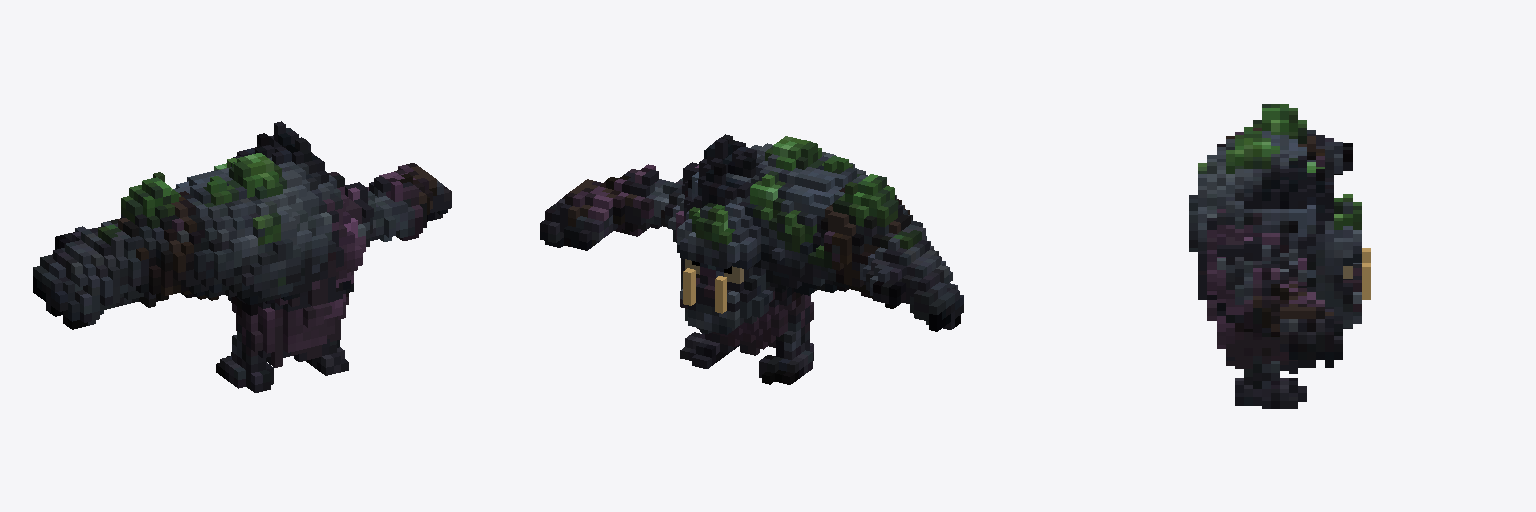
3 views of the same model, side by side, from view 1: azimuth 30°, elevation 25°; view 2: azimuth 150°, elevation 25°; view 3: azimuth 270°, elevation 25° (orthographic).
Visible parts, largest first — view 1: object 1; view 2: object 1; view 3: object 1.
Part boxes in pixels (bbox=[...]): object 1: bbox=[33, 121, 451, 392]; object 1: bbox=[540, 134, 963, 384]; object 1: bbox=[1189, 104, 1370, 408].
Size of the model in its own units: 5 by 2.8 by 2.
Materials: 1 (1 with a texture image).